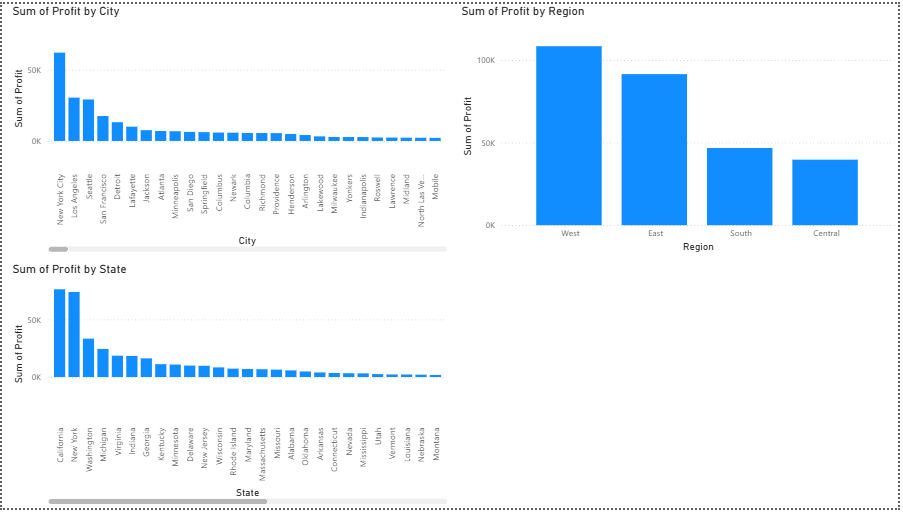

The page's visual inventory and layout, read from the dashboard file:
{"tool":"powerbi","page":{"name":"#1 Q2","canvas":[1280,720],"ordinal":0},"visuals":[{"type":"clusteredColumnChart","fields":{"Category":["superstore_US_raw.City"],"Y":["Sum(superstore_US_raw.Profit)"]},"box":[10.2,0,630.5,359.3],"z":0},{"type":"clusteredColumnChart","fields":{"Category":["superstore_US_raw.State"],"Y":["Sum(superstore_US_raw.Profit)"]},"box":[10,369,631,351],"z":1000},{"type":"clusteredColumnChart","fields":{"Category":["superstore_US_raw.Region"],"Y":["Sum(superstore_US_raw.Profit)"]},"box":[651,0,629,359],"z":2000}]}

Visuals, with their boxes in screenshot pixels (x1, y1, x2, y2), scaled from the page's 1280x720 canvas onto the 903x512 screenshot:
clusteredColumnChart - superstore_US_raw.City x Sum(superstore_US_raw.Profit): 7 0 452 256
clusteredColumnChart - superstore_US_raw.State x Sum(superstore_US_raw.Profit): 7 262 452 511
clusteredColumnChart - superstore_US_raw.Region x Sum(superstore_US_raw.Profit): 459 0 902 255
